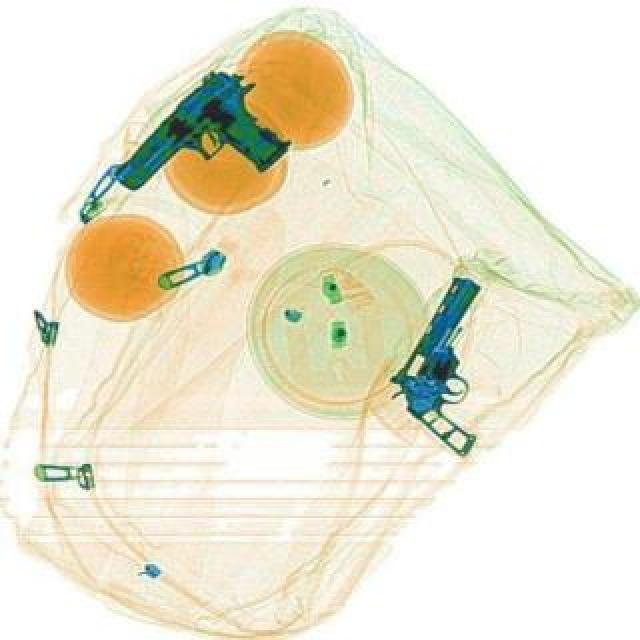gun: (102, 56, 306, 244), (370, 268, 544, 456)
